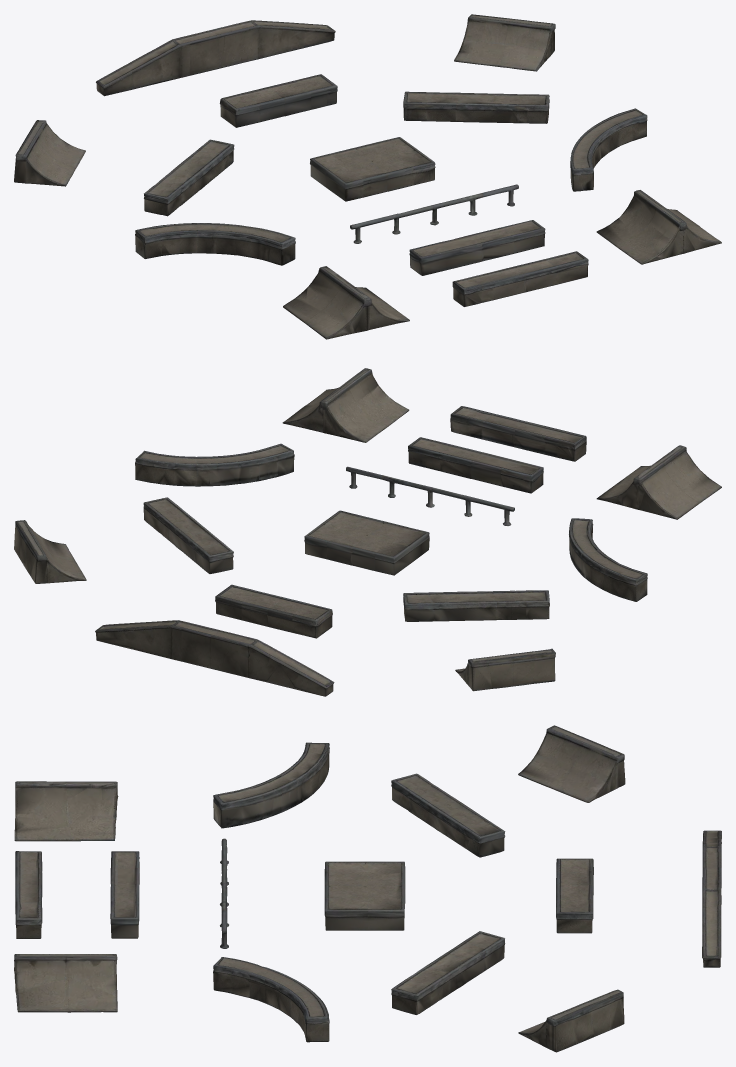
The model's file is skatepark_geo.glb.
3 renders of one model, top to bottom at view 1: azimuth 30°, elevation 25°; view 2: azimuth 150°, elevation 25°; view 3: azimuth 270°, elevation 25°, orthographic. The views are drawn at different scales.
Parts seen in each view (by area): view 1: mesh_node; view 2: mesh_node; view 3: mesh_node.
Boxes of the visible parts, x1,y1,x2,y2 form: mesh_node: [14, 14, 721, 339]; mesh_node: [14, 368, 721, 696]; mesh_node: [14, 725, 721, 1052].
Bounding box in the file's own units: 1.88 × 0.1128 × 1.9.
Materials: 1 (1 with a texture image).
